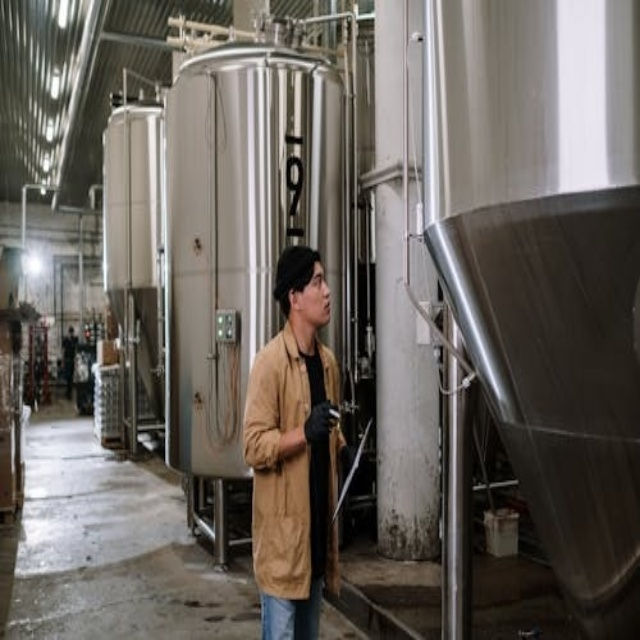Sin_gafas: (304, 273, 328, 289)
Sin_mascara: (315, 294, 333, 321)
